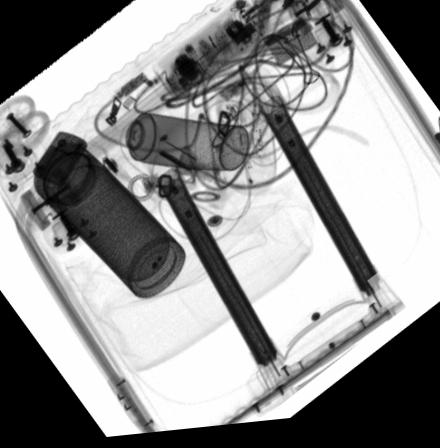Lighter: (259, 21, 315, 71)
Sprayer: (85, 105, 247, 174)
